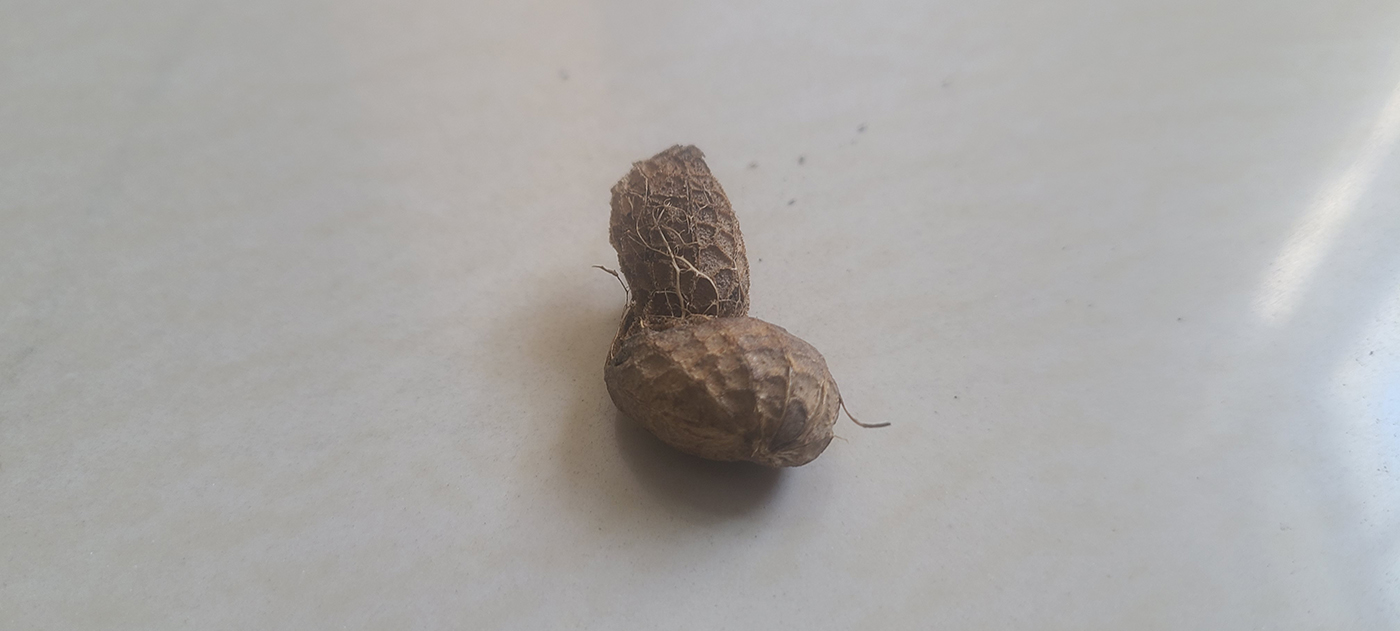l: (605, 141, 841, 467)
